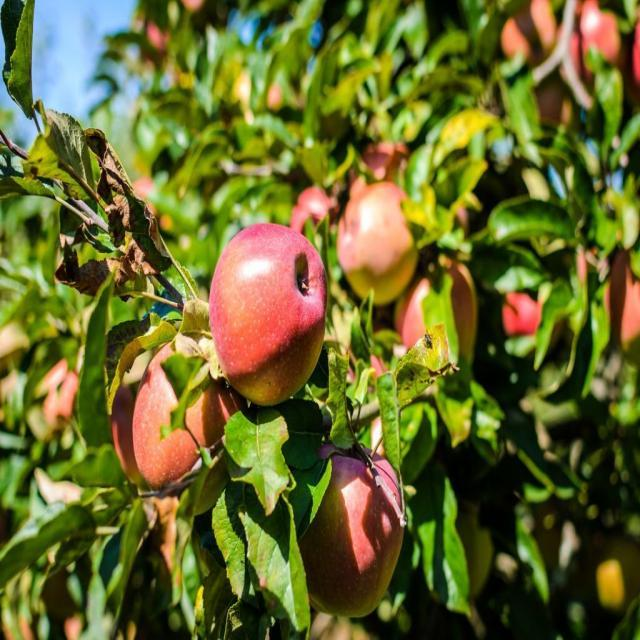Red Apple: (212, 236, 321, 382), (306, 444, 405, 592), (134, 346, 227, 482), (347, 194, 411, 305), (412, 267, 477, 357), (572, 5, 625, 72), (515, 7, 558, 58), (616, 270, 640, 347), (505, 293, 543, 341)
